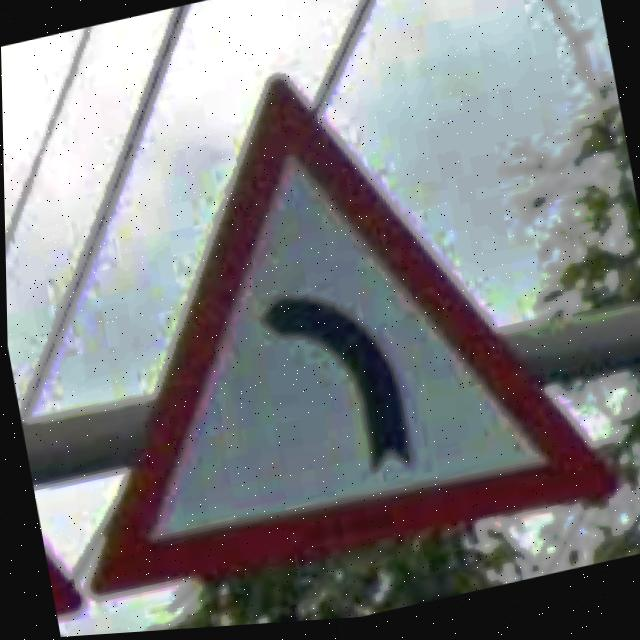leftbend: (89, 83, 617, 599)
